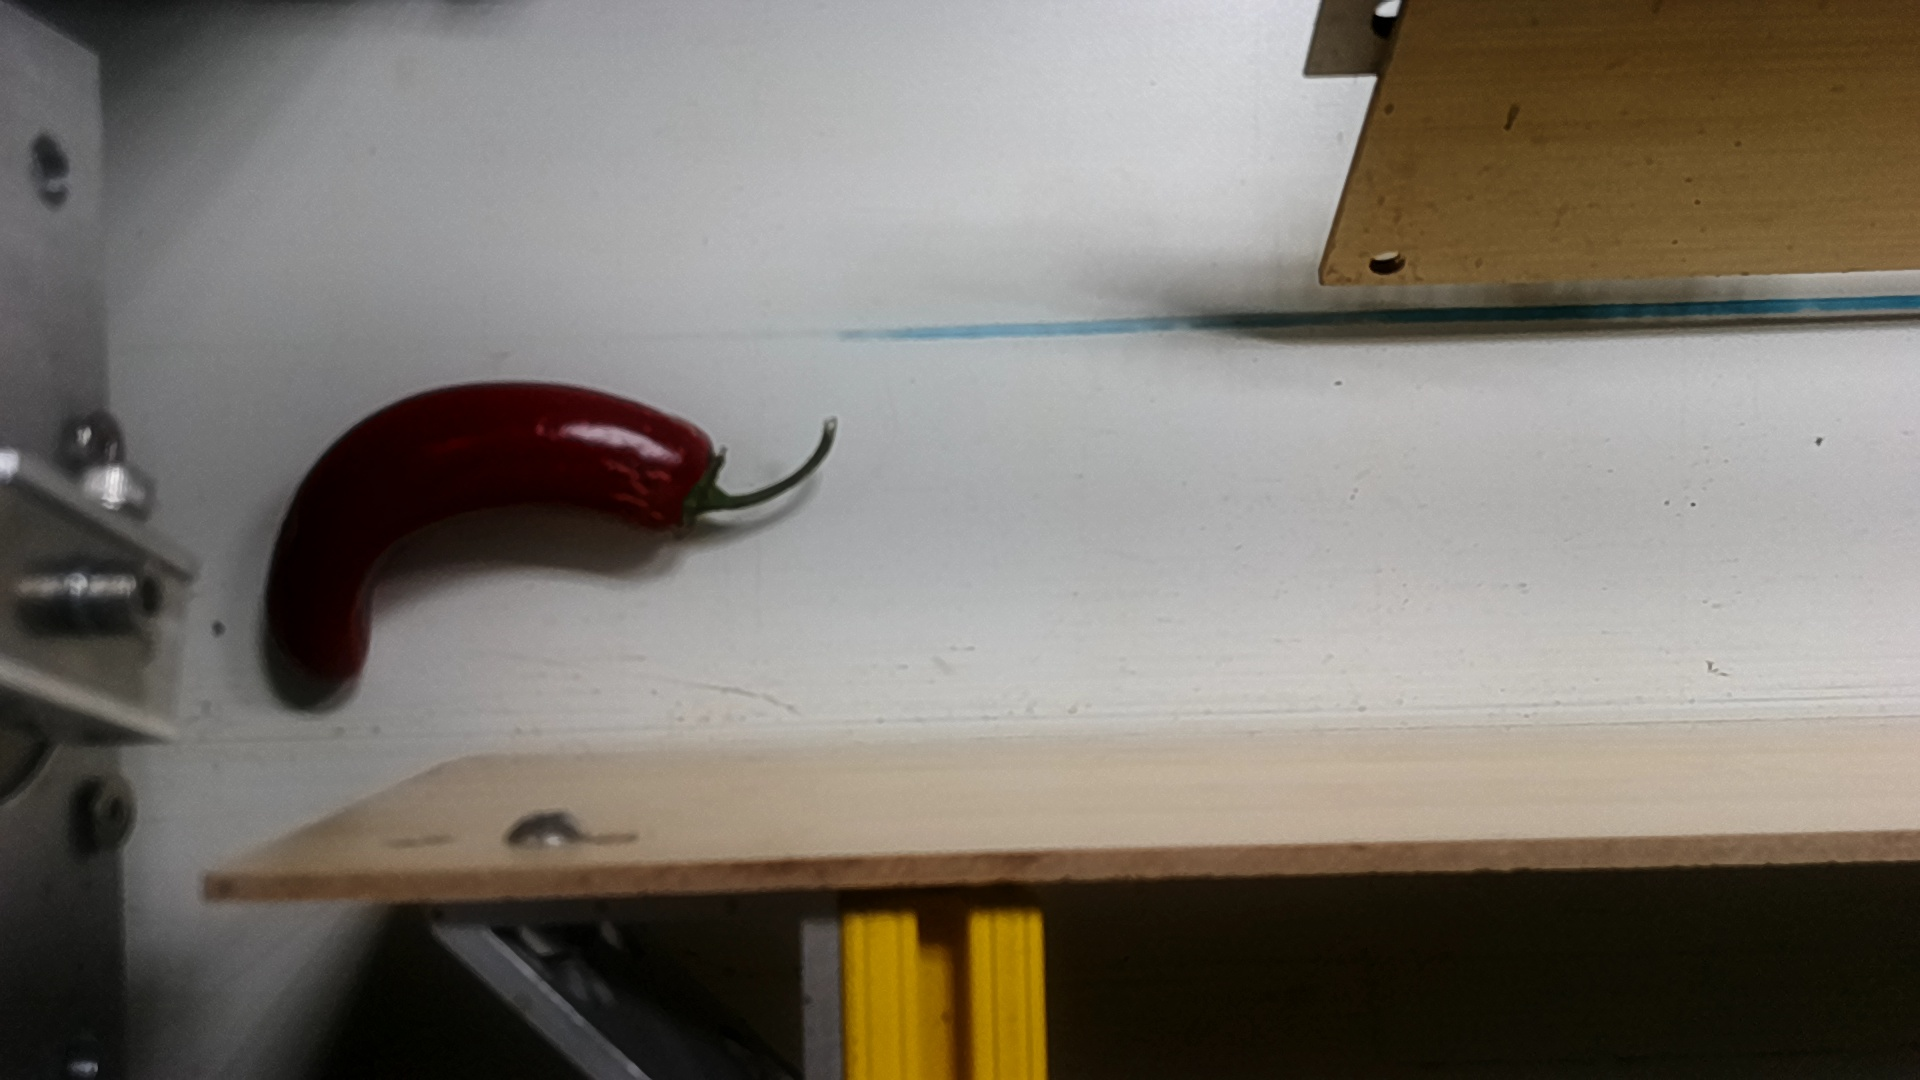Cut Point: (632, 402, 766, 568)
